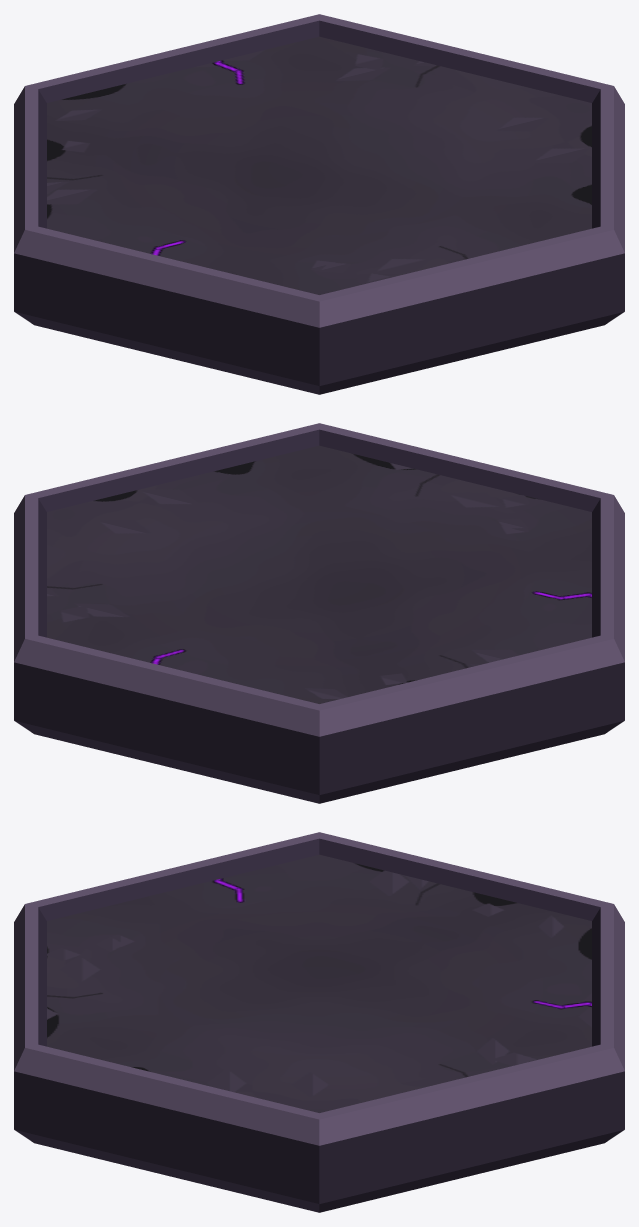
Rendered from Hex_Pedra_Rachada.glb.
3 views of the same model, one above another, from view 1: azimuth 30°, elevation 25°; view 2: azimuth 150°, elevation 25°; view 3: azimuth 270°, elevation 25° (orthographic).
Visible parts, largest first — view 1: Hex_template_2; view 2: Hex_template_2; view 3: Hex_template_2.
Part boxes in pixels (<box>): Hex_template_2: <box>14,14,624,394</box>; Hex_template_2: <box>14,423,624,803</box>; Hex_template_2: <box>14,832,624,1212</box>.
Bounding box in the file's own units: 1.9 × 0.29 × 1.64.
3 materials, 1 textured.
